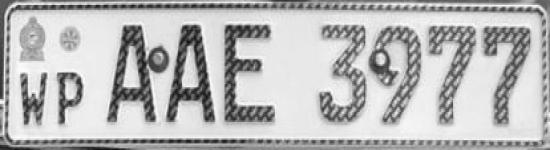3: (313, 18, 372, 128)
7: (478, 17, 534, 130), (424, 18, 479, 131)
9: (372, 19, 425, 129)
A: (104, 15, 162, 127), (164, 18, 220, 132)
E: (219, 16, 279, 128)
P: (54, 67, 85, 127)
W: (17, 67, 52, 129)
